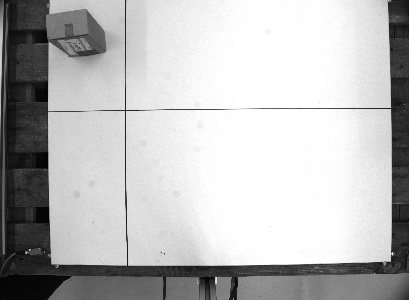b6: (43, 7, 108, 60)
